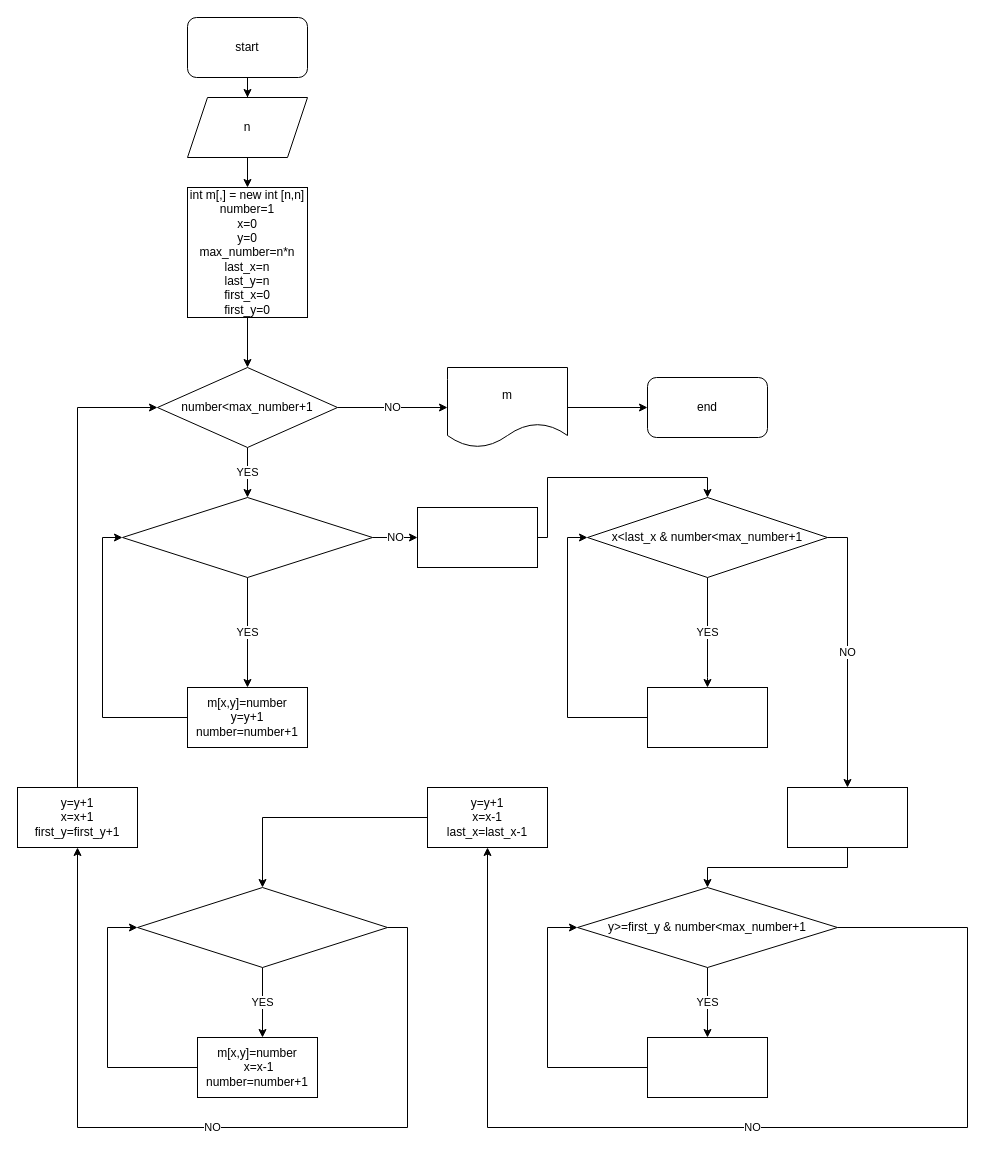
This 993x1153 diagram has some shape labels left out. Here are the shapes that lost their labels. From the top down, the centre of each, then its label:
point 247,537: y<last_y & number<max_number+1
point 477,537: y=y-1 x=x+1 first_x=first_x+1
point 707,717: m[x,y]=number x=x+1 number=number+1
point 847,817: x=x-1 y=y-1 last_y=last_y-1
point 262,927: x>=first_x & number<max_number+1
point 707,1067: m[x,y]=number y=y-1 number=number+1
